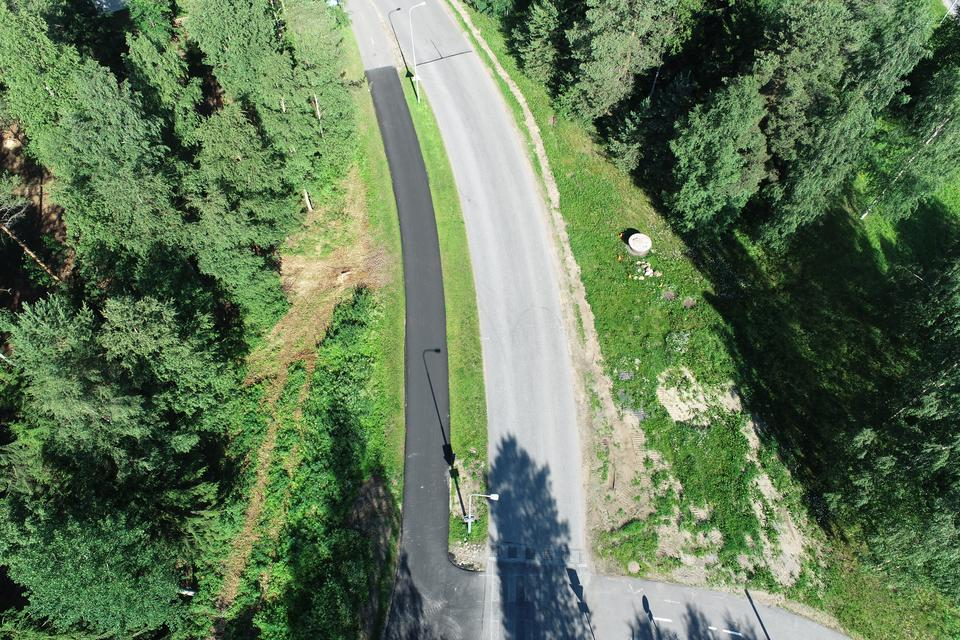intersection: (341, 507, 636, 640)
